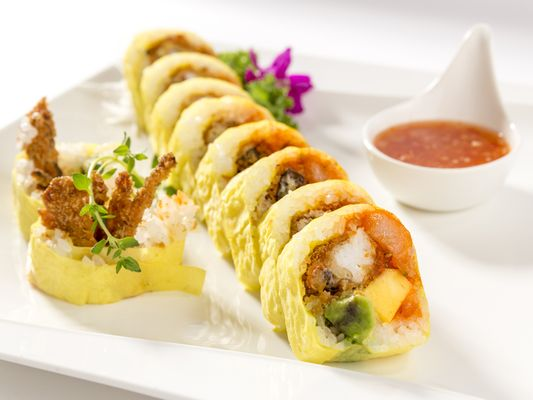sushi: (363, 24, 519, 213), (363, 103, 516, 214)
